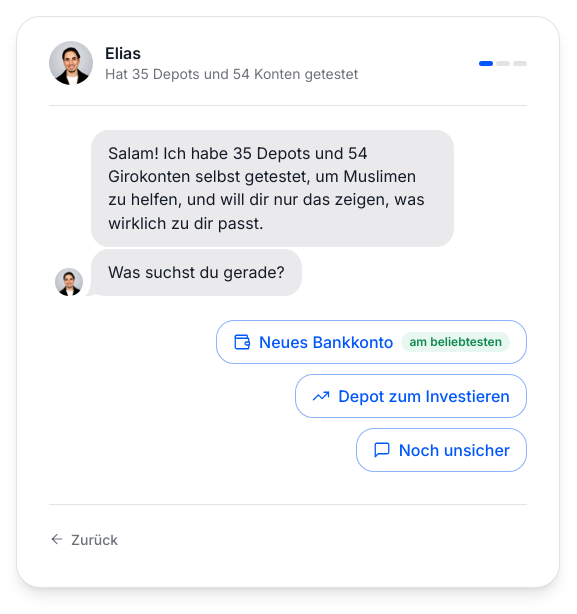
Chat › erste Frage wie im Original: Kopf mit Elias und „Hat 35 Depots und 54 Konten getestet“, Salam-Blase, „Was suchst du gerade?“, drei Antworten, Zurück
Expected: the header with class "hc-chat-kopf" shows "Elias", [105, 43, 141, 63]
Expected: the header with class "hc-chat-kopf" shows "Hat 35 Depots und 54 Konten getestet", [49, 41, 527, 106]
Click the button with class "hc-wahl" that starts with "Neues Bankkonto" at [372, 342], box [216, 320, 527, 364]
Wait 300 ms
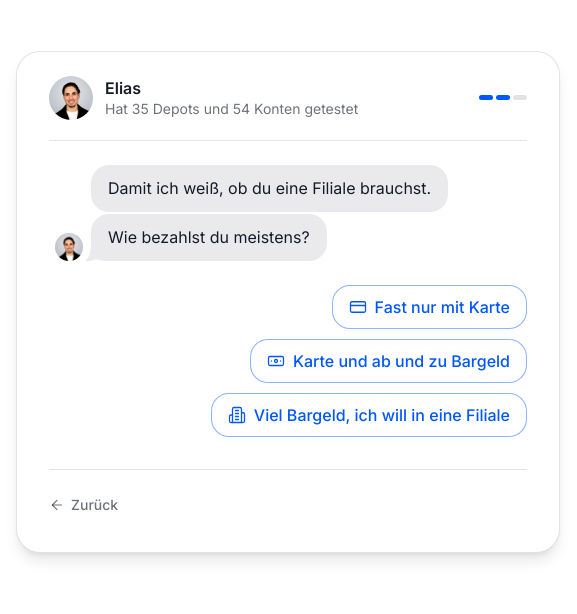
Expected: the number of buttons with class "hc-wahl" is 3, [332, 285, 527, 329]; [250, 339, 527, 383]; [211, 393, 527, 437]
Expected: the heading reads "Wie bezahlst du meistens?", [108, 227, 310, 247]
